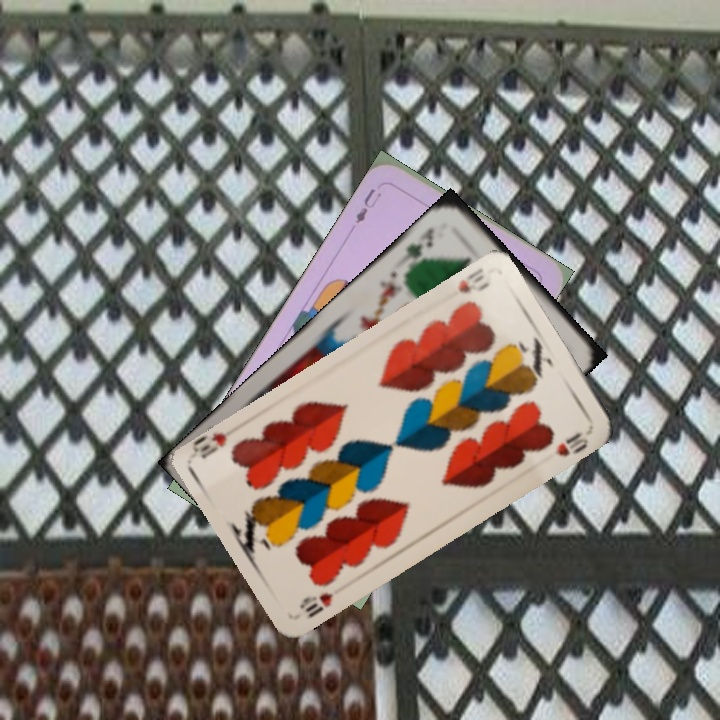EU: (351, 184, 384, 227)
GK: (399, 223, 437, 268)
H10: (295, 588, 336, 621), (454, 264, 493, 296)
